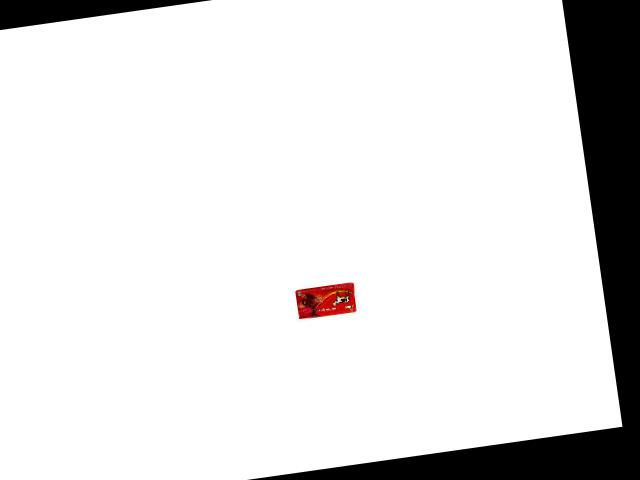chocolate: (294, 278, 360, 319)
